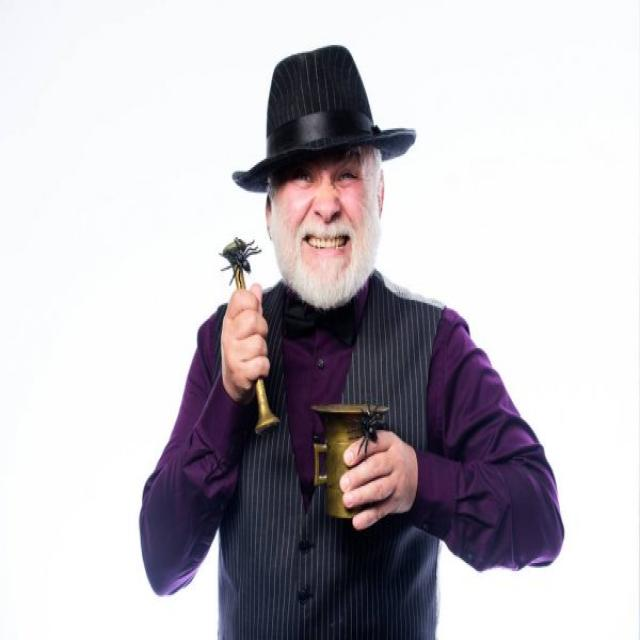hat: (233, 45, 417, 298)
